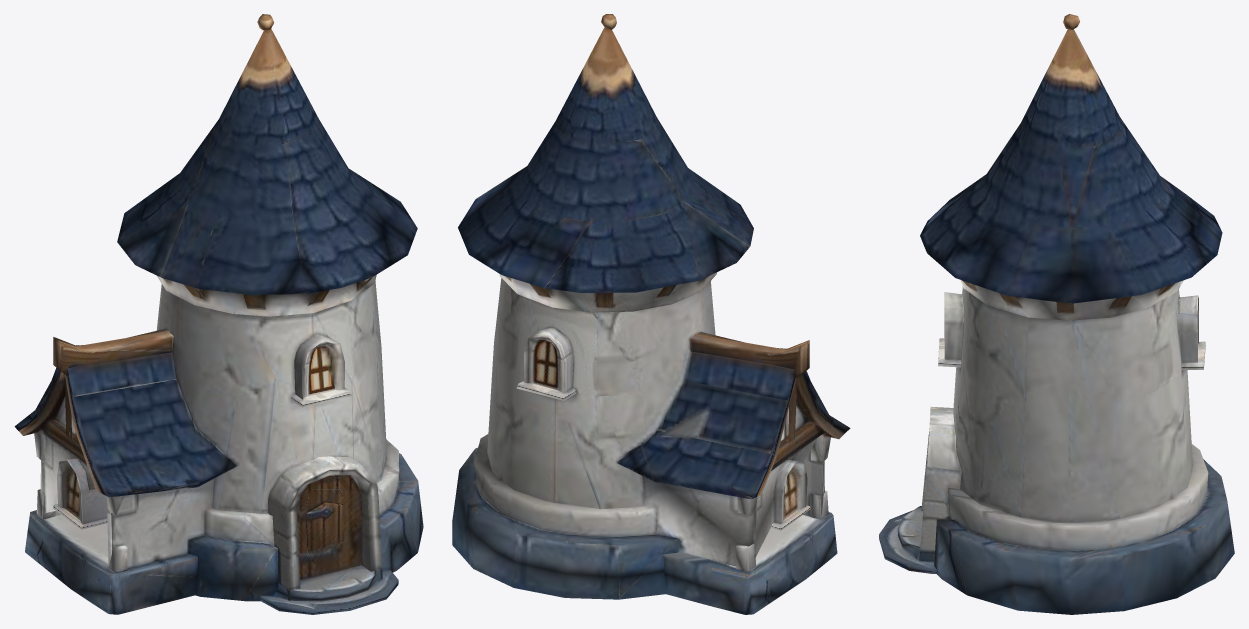
File: o-tourelle-semis.glb
3 renders of one model, left to right at view 1: azimuth 30°, elevation 25°; view 2: azimuth 150°, elevation 25°; view 3: azimuth 270°, elevation 25°, orthographic. The views are drawn at different scales.
Visible parts, largest first — view 1: o-tourelle-semis; view 2: o-tourelle-semis; view 3: o-tourelle-semis.
Part boxes in pixels (bbox=[...]): o-tourelle-semis: bbox=[14, 14, 423, 614]; o-tourelle-semis: bbox=[452, 14, 850, 614]; o-tourelle-semis: bbox=[879, 14, 1234, 614].
Bounding box in the file's own units: 1.37 × 2 × 1.22.
Materials: 1 (1 with a texture image).
